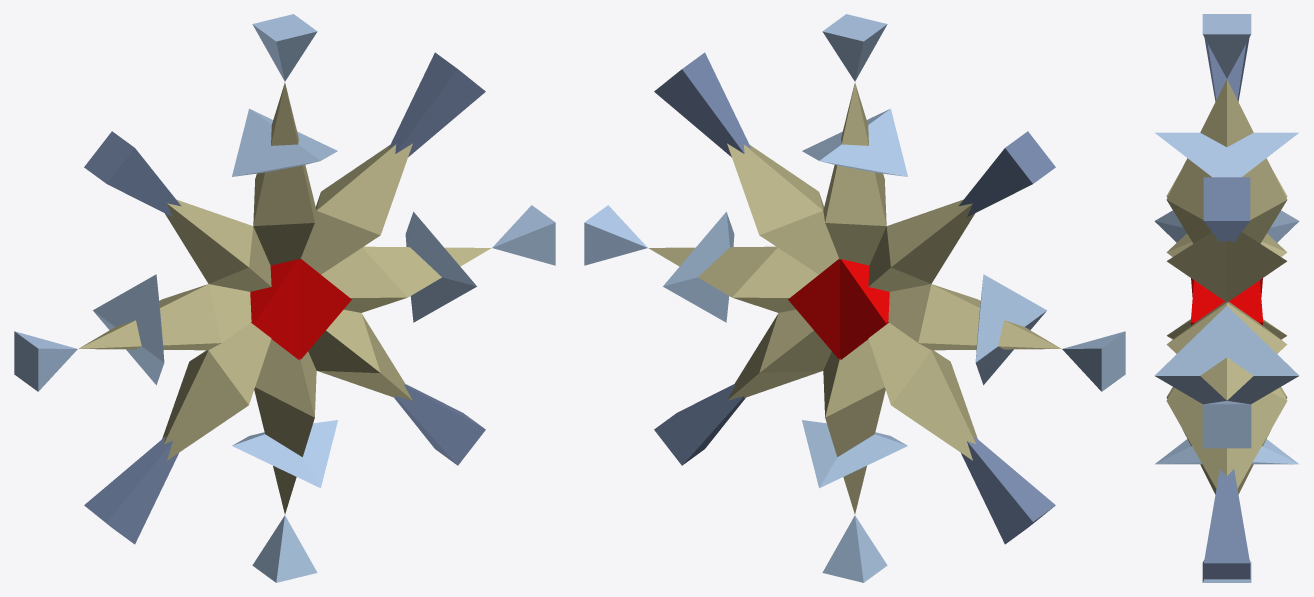
Rendered from shootingstar.dae.
3 renders of one model, left to right at view 1: azimuth 30°, elevation 25°; view 2: azimuth 150°, elevation 25°; view 3: azimuth 270°, elevation 25°, orthographic.
Parts seen in each view (by area): view 1: Plane, Plane_003, Plane_001, Plane_002; view 2: Plane, Plane_003, Plane_001, Plane_002; view 3: Plane, Plane_003, Plane_001, Plane_002.
Part boxes in pixels (x1,y1,x2,y2): Plane: (78,82,491,514); Plane_003: (14,14,555,582); Plane_001: (84,52,485,544); Plane_002: (250,259,351,359); Plane: (648,82,1061,514); Plane_003: (584,14,1125,582); Plane_001: (654,52,1055,544); Plane_002: (788,259,889,359); Plane: (1166,79,1287,494); Plane_003: (1154,14,1299,582); Plane_001: (1203,38,1250,579); Plane_002: (1190,278,1263,325).
Bounding box in the file's own units: 2.5 × 0.6 × 2.5.
